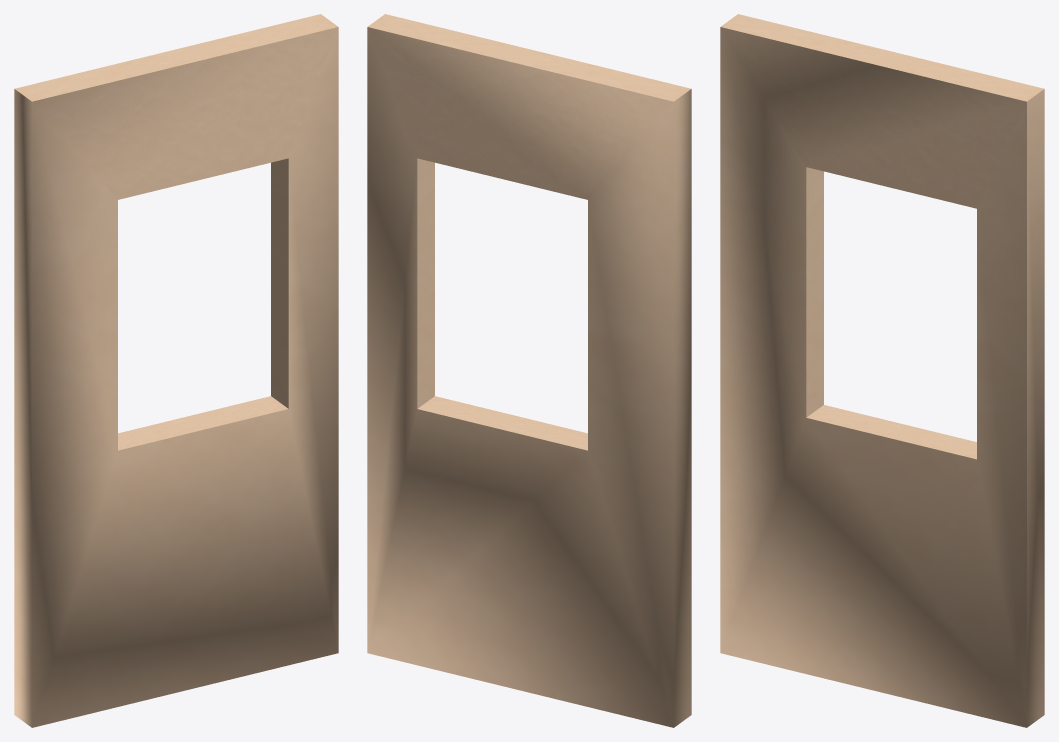
The model's file is Door_Panel_B.fbx.
3 renders of one model, left to right at view 1: azimuth 30°, elevation 25°; view 2: azimuth 150°, elevation 25°; view 3: azimuth 330°, elevation 25°, orthographic.
Parts seen in each view (by area): view 1: Door_Panel_B; view 2: Door_Panel_B; view 3: Door_Panel_B.
Boxes of the visible parts, x1=… form: Door_Panel_B: x1=14, y1=14, x2=338, y2=727; Door_Panel_B: x1=367, y1=14, x2=691, y2=727; Door_Panel_B: x1=720, y1=14, x2=1044, y2=727.
Size of the model in its own units: 1 by 1.95 by 0.1.
1 material, 1 textured.
